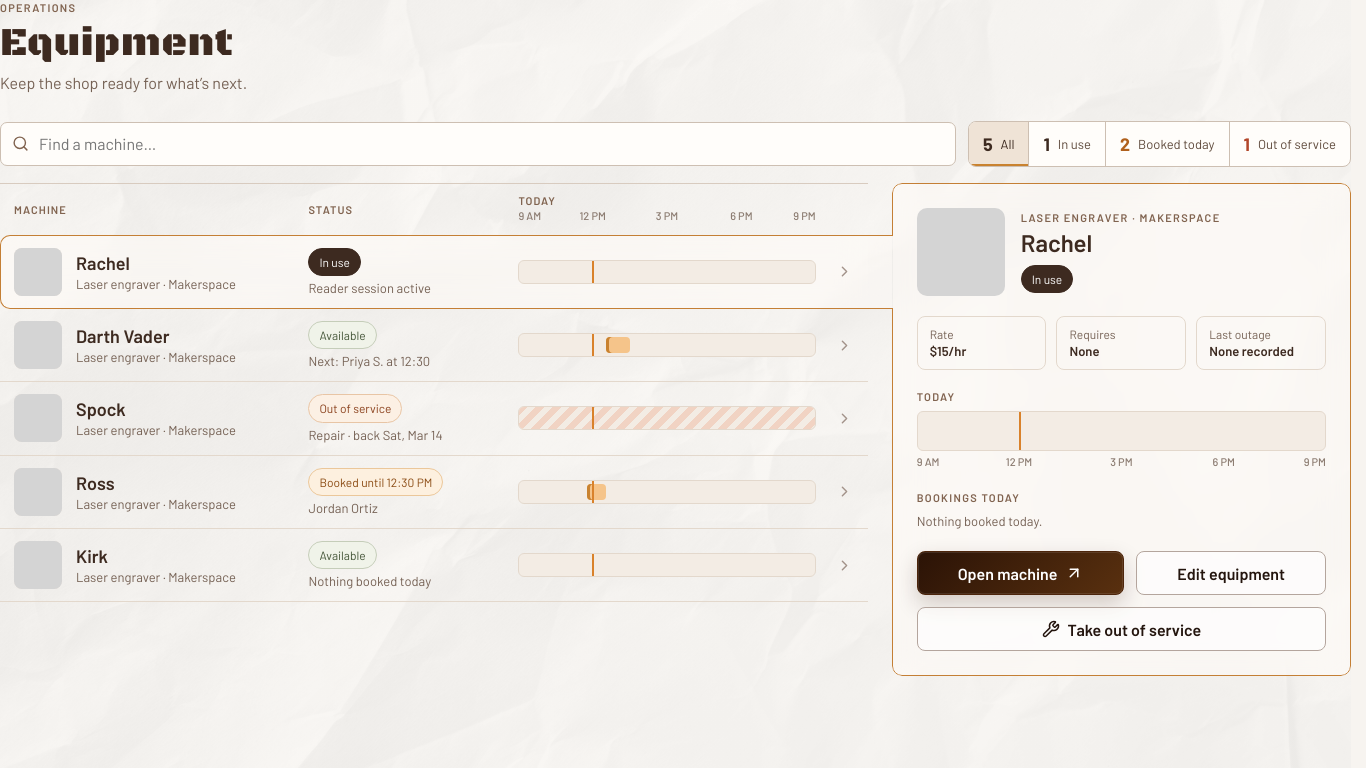
Test case: on a wide screen a row opens beside the list instead of leaving it
The image size is (1366, 768).
Expected: the text "Nothing booked today." is shown, x1=917 y1=512 x2=1042 y2=528
Click the link that starts with "Darth Vader": (38, 345) x1=0 y1=309 x2=868 y2=382
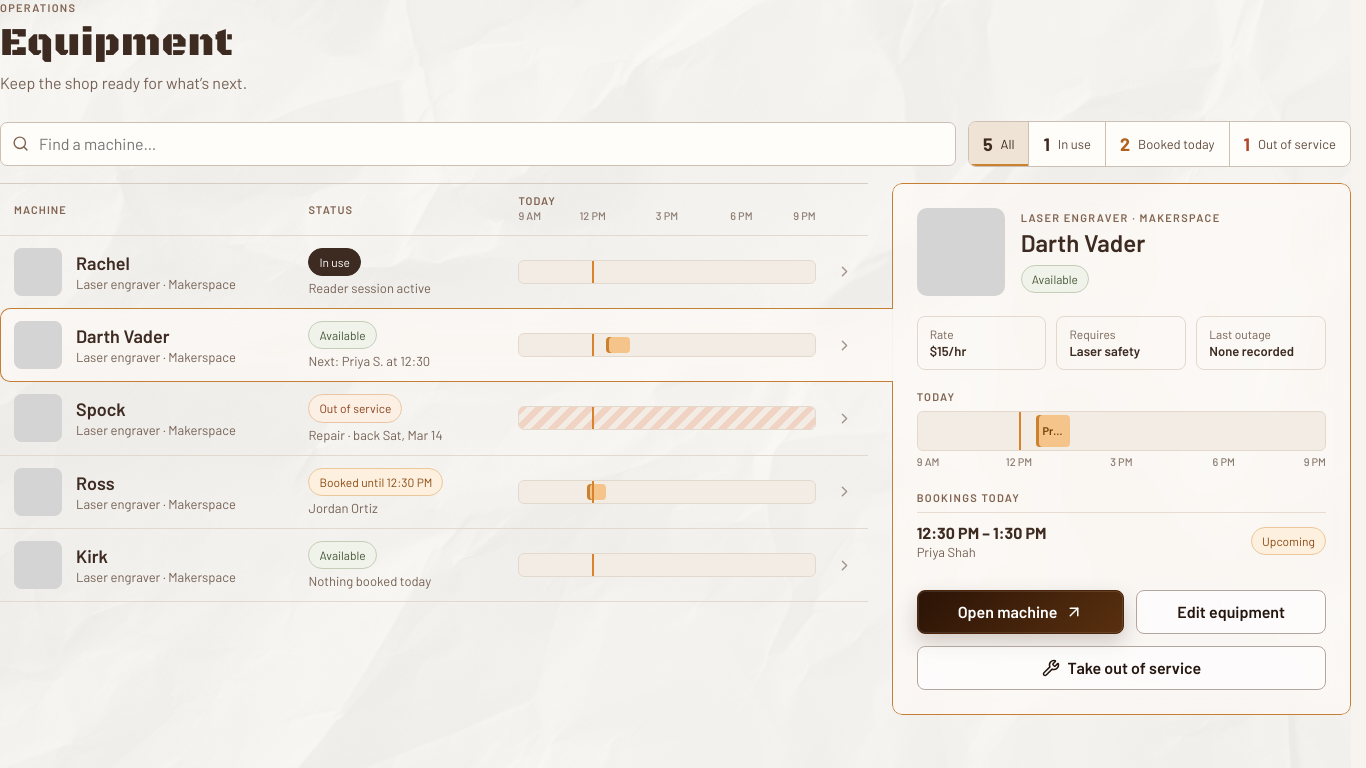
Expected: the heading "Equipment" is shown, x1=0 y1=22 x2=247 y2=62
Now the text "Priya Shah" is shown, box x1=917 y1=544 x2=976 y2=560
The availability action opens the machine page with its form already open.
Click the link "Take out of service": (1121, 668) x1=917 y1=646 x2=1326 y2=690
(page scrolled)
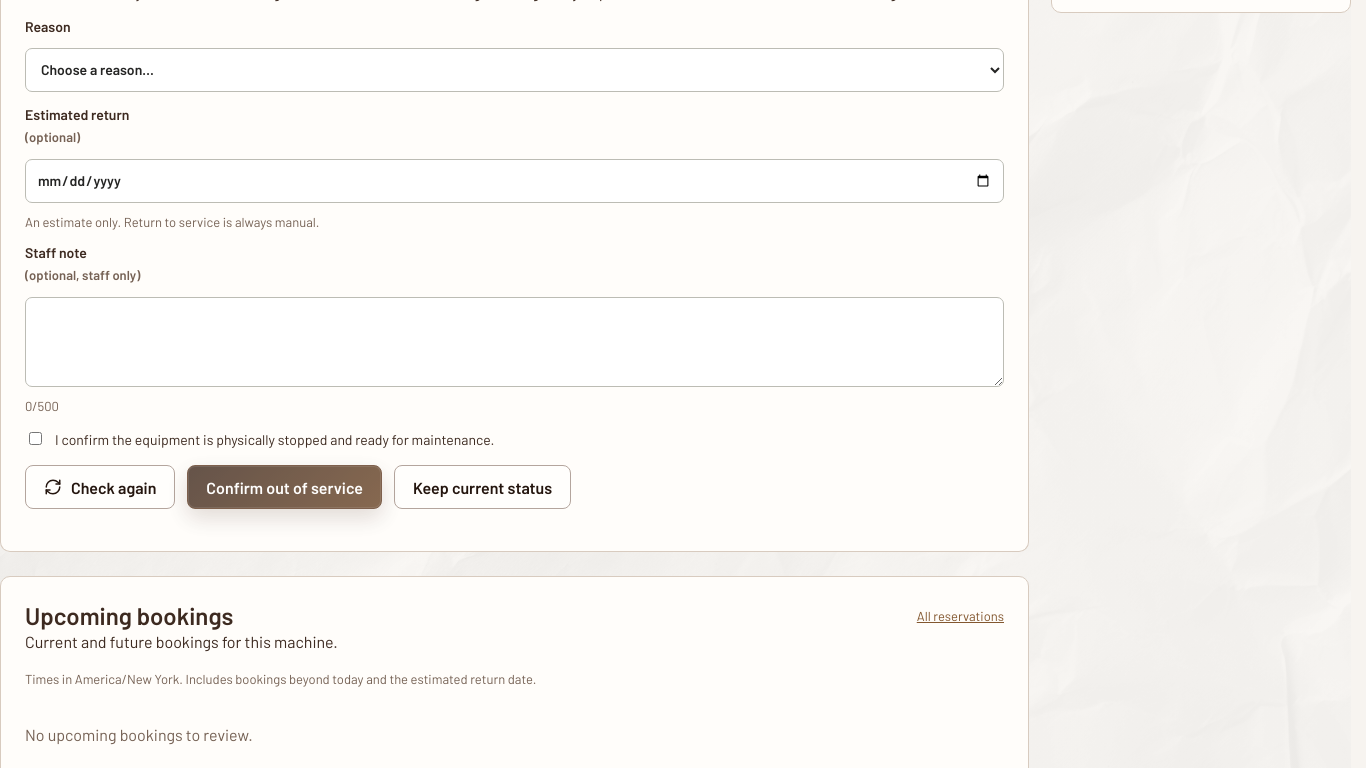
Now the button "Confirm out of service" is shown, box x1=187 y1=465 x2=382 y2=509
